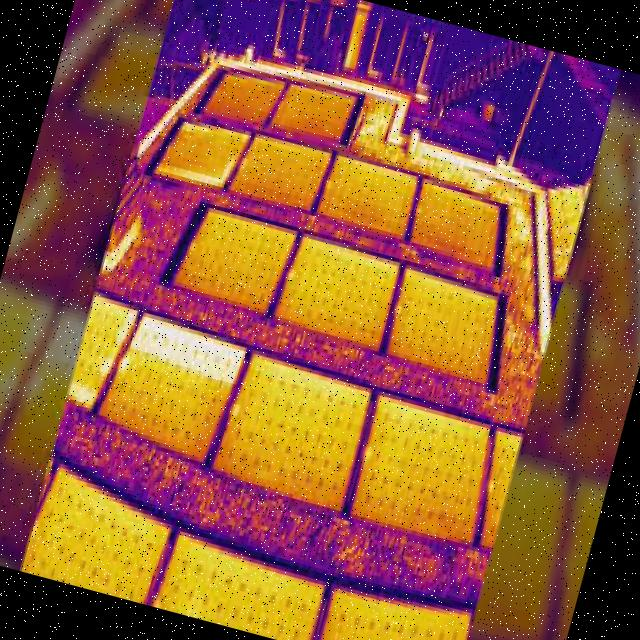Hotspot: (127, 308, 250, 387), (157, 161, 227, 192), (64, 376, 100, 410), (114, 304, 140, 346), (217, 153, 237, 196), (115, 350, 134, 378), (98, 354, 116, 379)
